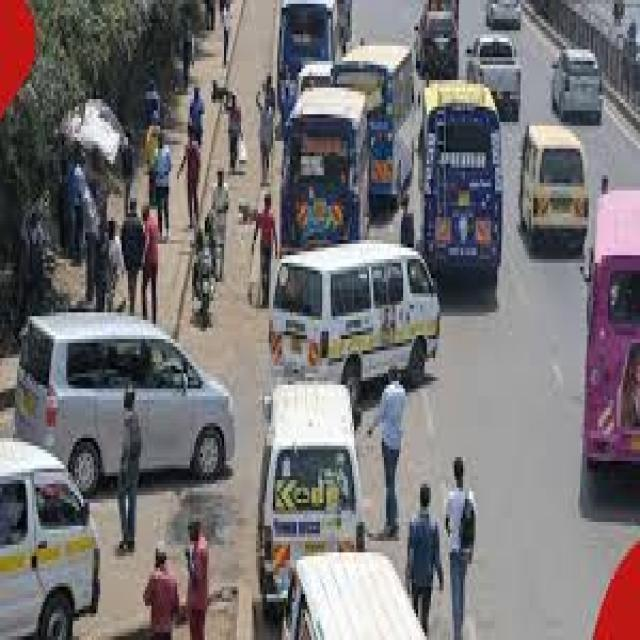bus: (272, 79, 381, 216), (595, 185, 640, 514), (417, 82, 514, 218), (386, 31, 410, 223), (276, 2, 342, 65)
matatu: (0, 416, 116, 640), (265, 226, 458, 355), (261, 364, 374, 549), (288, 555, 444, 640), (523, 107, 590, 250)
